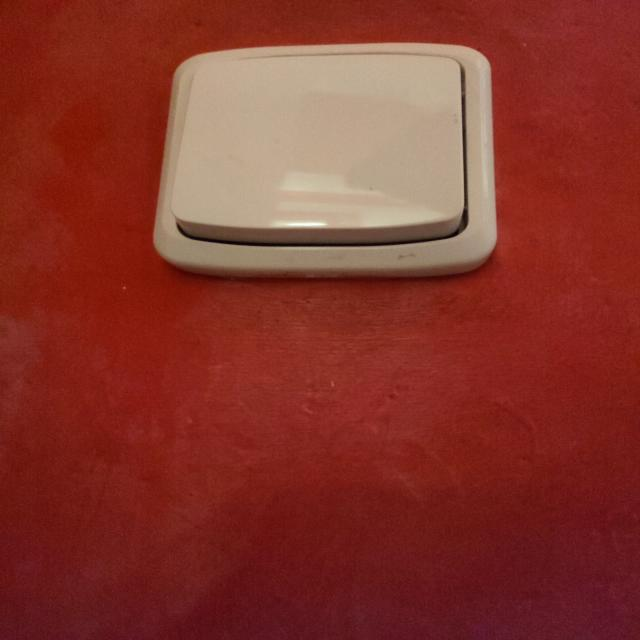house switch: (151, 43, 497, 281)
